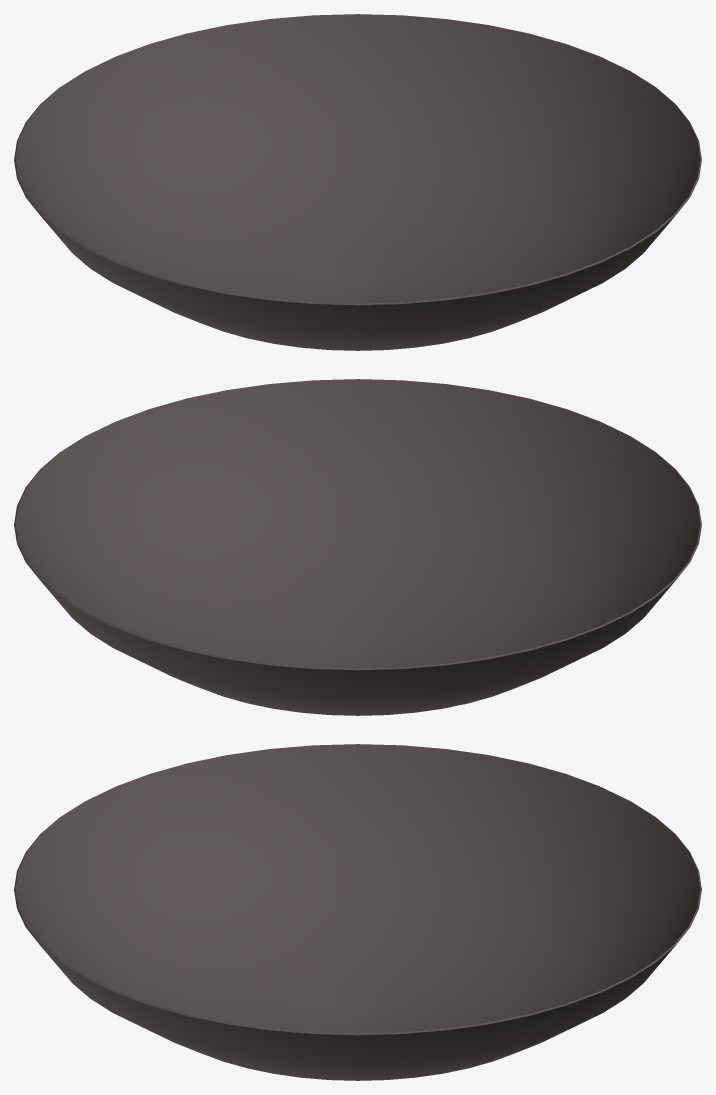
Rendered from stage_garasu.fbx.
The picture shows the model from 3 angles, top to bottom: view 1: azimuth 30°, elevation 25°; view 2: azimuth 150°, elevation 25°; view 3: azimuth 270°, elevation 25°; orthographic projection.
Visible parts, largest first — view 1: garasu; view 2: garasu; view 3: garasu.
Part boxes in pixels (x1,y1,x2,y2): garasu: (14,14,701,350); garasu: (14,379,701,715); garasu: (14,744,701,1080).
Size of the model in its own units: 2689 by 616 by 2689.
